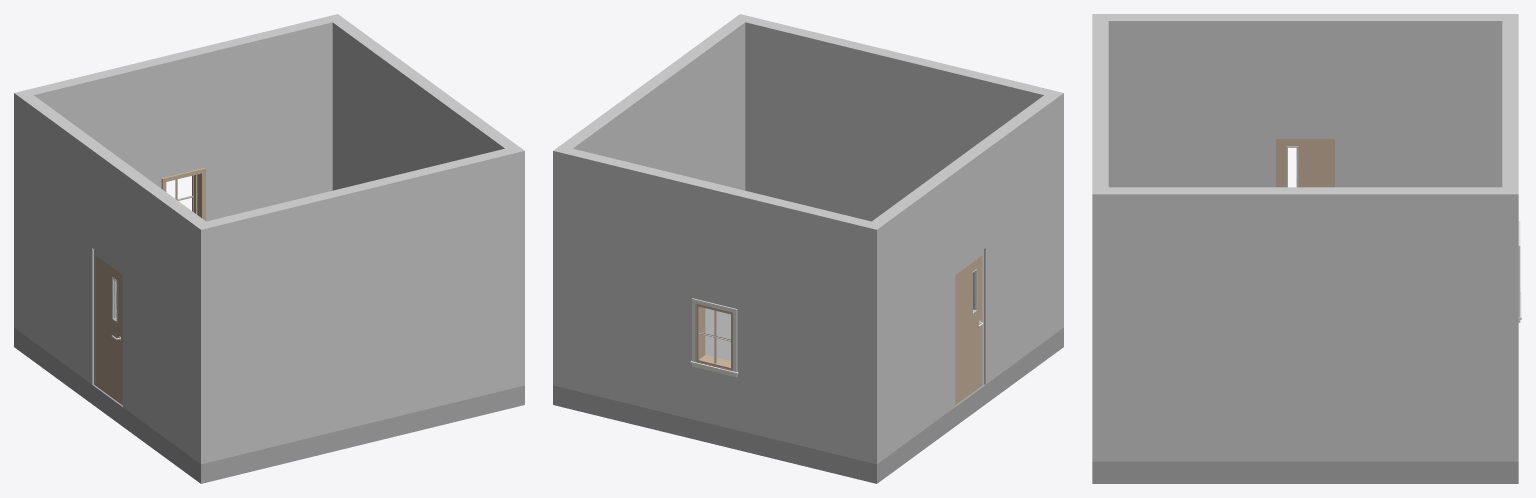
The picture shows the model from 3 angles, left to right: view 1: azimuth 30°, elevation 25°; view 2: azimuth 150°, elevation 25°; view 3: azimuth 270°, elevation 25°; orthographic projection. The views are drawn at different scales.
Visible parts, largest first — view 1: 0N306lLjTEow86rs_mTfAZ, 0N306lLjTEow86rs_mTer6, 0N306lLjTEow86rs_mTeqH, 0N306lLjTEow86rs_mTfBC, 0N306lLjTEow86rs_mTfEb, 0N306lLjTEow86rs_mTfAt; view 2: 0N306lLjTEow86rs_mTeqH, 0N306lLjTEow86rs_mTer6, 0N306lLjTEow86rs_mTfAZ, 0N306lLjTEow86rs_mTfBC, 0N306lLjTEow86rs_mTfEb, 0N306lLjTEow86rs_mTfAt, 0N306lLjTEow86rs_mTf9G, 0N306lLjTEow86rs_mTf9S; view 3: 0N306lLjTEow86rs_mTfBC, 0N306lLjTEow86rs_mTer6, 0N306lLjTEow86rs_mTfEb, 0N306lLjTEow86rs_mTeqH, 0N306lLjTEow86rs_mTfAt, 0N306lLjTEow86rs_mTfAZ.
Boxes of the visible parts, x1,y1,x2,y2 form: 0N306lLjTEow86rs_mTfAZ: (206, 148, 512, 461); 0N306lLjTEow86rs_mTer6: (14, 90, 213, 464); 0N306lLjTEow86rs_mTeqH: (27, 14, 344, 309); 0N306lLjTEow86rs_mTfBC: (332, 19, 524, 388); 0N306lLjTEow86rs_mTfEb: (14, 309, 524, 483); 0N306lLjTEow86rs_mTfAt: (94, 249, 122, 405); 0N306lLjTEow86rs_mTeqH: (553, 145, 871, 461); 0N306lLjTEow86rs_mTer6: (864, 90, 1063, 464); 0N306lLjTEow86rs_mTfAZ: (745, 17, 1050, 221); 0N306lLjTEow86rs_mTfBC: (560, 14, 751, 190); 0N306lLjTEow86rs_mTfEb: (553, 308, 1063, 483); 0N306lLjTEow86rs_mTfAt: (955, 249, 983, 405); 0N306lLjTEow86rs_mTf9G: (690, 298, 738, 377); 0N306lLjTEow86rs_mTf9S: (695, 303, 732, 371); 0N306lLjTEow86rs_mTfBC: (1092, 187, 1502, 461); 0N306lLjTEow86rs_mTer6: (1092, 14, 1518, 187); 0N306lLjTEow86rs_mTfEb: (1092, 461, 1518, 483); 0N306lLjTEow86rs_mTeqH: (1502, 21, 1518, 461); 0N306lLjTEow86rs_mTfAt: (1270, 132, 1340, 187); 0N306lLjTEow86rs_mTfAZ: (1092, 21, 1108, 187).
Size of what is drawn, in the model's own units: 5.24 by 3.9 by 5.24.
